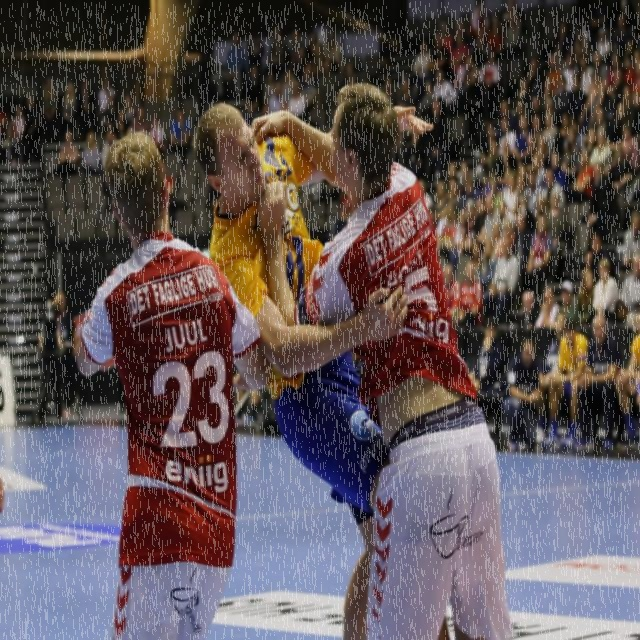pessoa: (246, 80, 532, 640), (191, 99, 455, 639), (71, 128, 271, 639), (392, 0, 639, 324), (0, 60, 191, 174), (196, 12, 345, 123), (538, 314, 596, 467), (572, 311, 620, 453), (498, 334, 554, 454), (529, 307, 569, 447), (613, 308, 639, 458), (50, 290, 76, 428), (36, 304, 66, 419), (466, 314, 504, 392), (344, 59, 394, 93)
